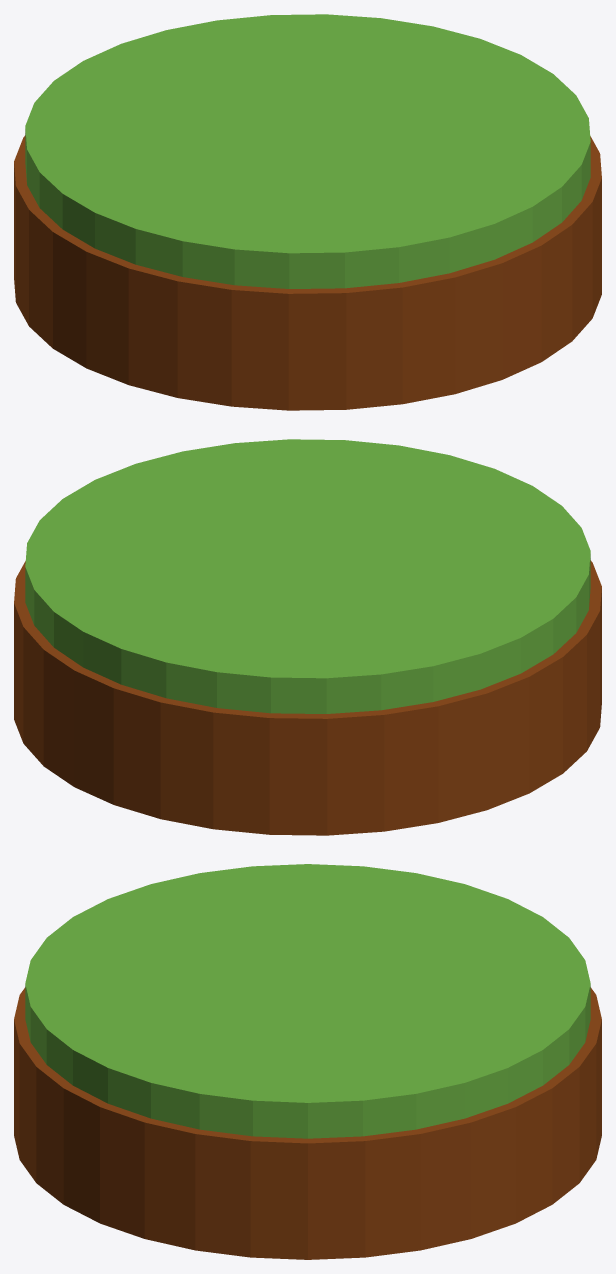
File: smallCirclePlatform.glb
3 views of the same model, one above another, from view 1: azimuth 30°, elevation 25°; view 2: azimuth 150°, elevation 25°; view 3: azimuth 270°, elevation 25° (orthographic).
Parts seen in each view (by area): view 1: Cylinder.001, Cylinder; view 2: Cylinder.001, Cylinder; view 3: Cylinder.001, Cylinder.
Boxes of the visible parts, x1,y1,x2,y2 form: Cylinder.001: [25, 14, 590, 288]; Cylinder: [14, 135, 601, 410]; Cylinder.001: [25, 439, 590, 713]; Cylinder: [14, 560, 601, 835]; Cylinder.001: [25, 864, 590, 1138]; Cylinder: [14, 987, 601, 1259].
Size of the model in its own units: 3 by 0.8571 by 3.
